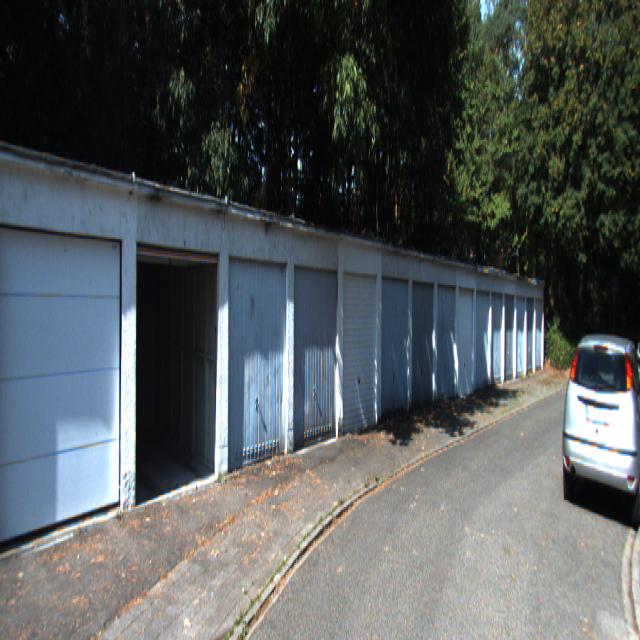Car: (562, 328, 640, 522)
